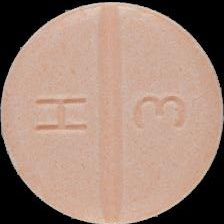68788-8928: (0, 0, 224, 224)
